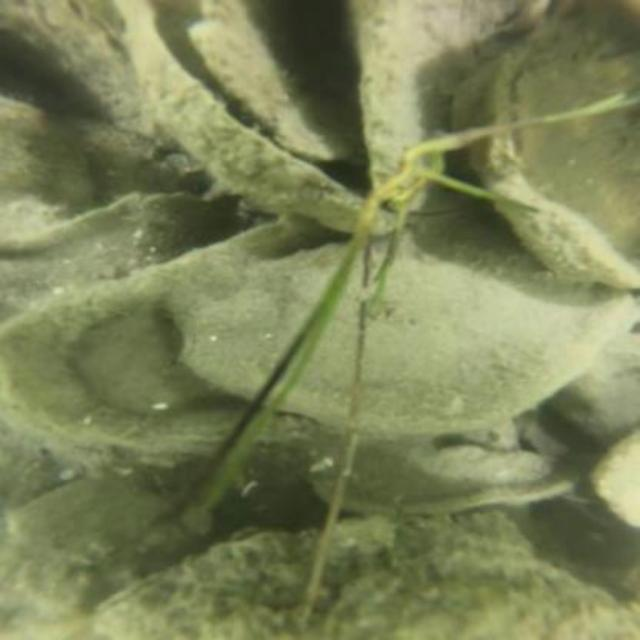Oyster-Closed: (167, 241, 638, 438), (0, 213, 357, 452), (82, 515, 631, 638), (455, 0, 638, 303), (14, 474, 220, 621), (0, 0, 164, 146), (190, 8, 327, 155), (4, 100, 91, 209), (554, 330, 636, 442), (435, 437, 548, 484), (595, 431, 636, 526)
Oyster-Open: (117, 0, 422, 233)
